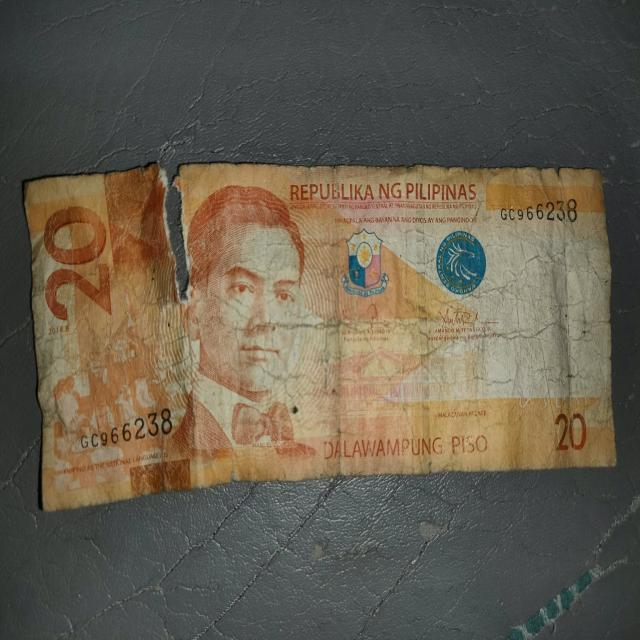broken: (16, 163, 618, 518)
torn: (144, 142, 209, 320)
